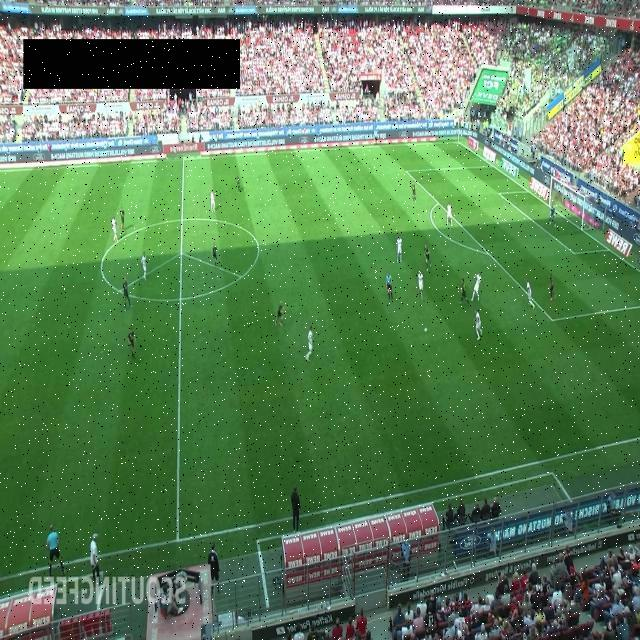Ball: (424, 326, 428, 334)
Corner: (456, 117, 461, 145)
GoalKeeper: (548, 205, 558, 228)
Referee: (46, 523, 66, 577), (386, 270, 392, 300), (373, 127, 379, 146)
TEAM 1: (304, 325, 314, 363), (471, 271, 482, 302), (472, 309, 482, 341), (526, 280, 536, 310), (140, 251, 148, 281), (111, 216, 119, 242), (418, 270, 424, 300), (396, 235, 402, 263), (446, 202, 452, 226), (210, 190, 216, 212)
TEAM 2: (459, 276, 471, 306), (122, 276, 132, 312), (127, 326, 136, 359), (274, 300, 284, 328), (424, 242, 432, 272), (549, 276, 556, 301), (119, 206, 125, 232), (212, 242, 218, 266), (235, 174, 242, 192), (412, 182, 416, 202)
